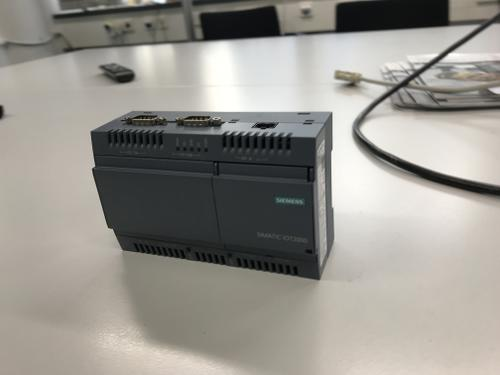device: (90, 110, 334, 280)
